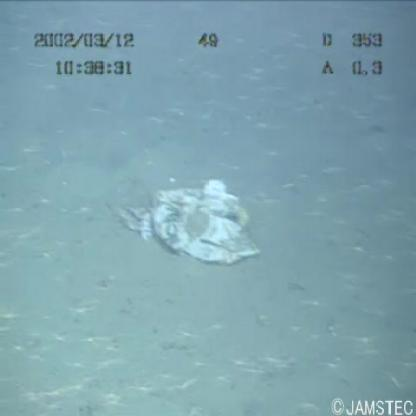Rác: (107, 163, 271, 269)
